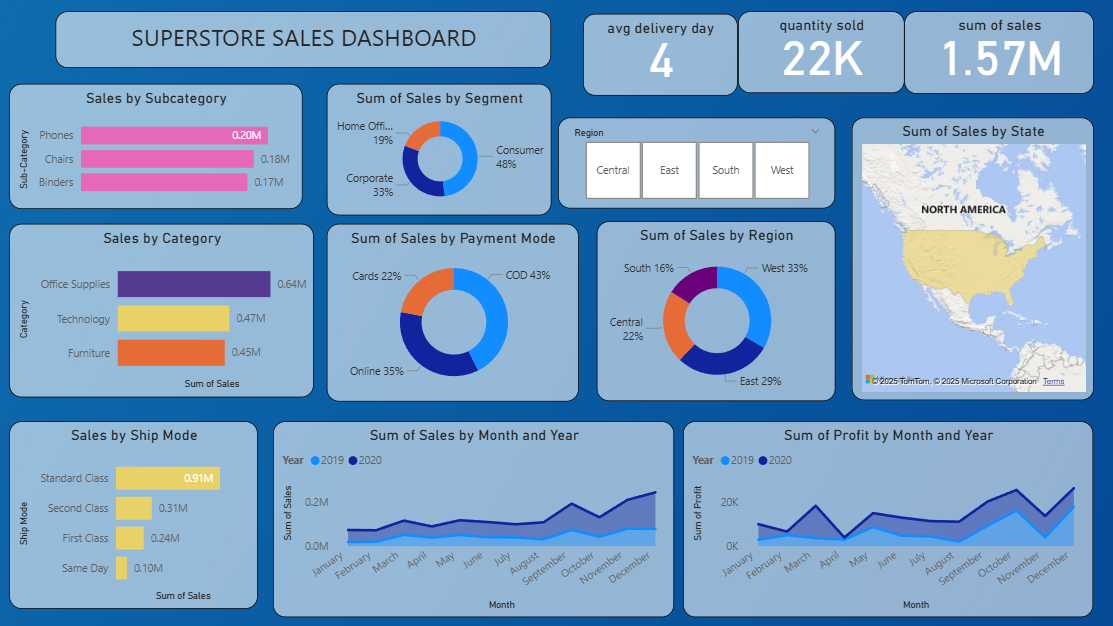

What the dashboard file says about the page in this screenshot:
{"tool":"powerbi","page":{"name":"Page 1","canvas":[1280,720],"ordinal":0},"visuals":[{"type":"clusteredBarChart","title":"Sales by Category","fields":{"Category":["SuperStore_Sales_Dataset (1).Category"],"Y":["Sum(SuperStore_Sales_Dataset (1).Sales)"]},"box":[13.3,255,348.3,198.3],"z":0},{"type":"clusteredBarChart","title":"Sales by Subcategory","fields":{"Category":["SuperStore_Sales_Dataset (1).Sub-Category"],"Y":["Sum(SuperStore_Sales_Dataset (1).Sales)"]},"box":[13.3,95,335,143.3],"z":1000},{"type":"clusteredBarChart","title":"Sales by Ship Mode","fields":{"Y":["Sum(SuperStore_Sales_Dataset (1).Sales)"],"Category":["SuperStore_Sales_Dataset (1).Ship Mode"]},"box":[12.9,481.4,284.3,214.3],"z":2000},{"type":"stackedAreaChart","fields":{"Category":["SuperStore_Sales_Dataset (1).Order Date.Variation.Date Hierarchy.Month","SuperStore_Sales_Dataset (1).Order Date.Variation.Date Hierarchy.Day"],"Series":["SuperStore_Sales_Dataset (1).Order Date.Variation.Date Hierarchy.Year"],"Y":["Sum(SuperStore_Sales_Dataset (1).Profit)"]},"box":[782.9,481.4,468.6,224.3],"z":3000},{"type":"stackedAreaChart","fields":{"Y":["Sum(SuperStore_Sales_Dataset (1).Sales)"],"Category":["SuperStore_Sales_Dataset (1).Order Date.Variation.Date Hierarchy.Month","SuperStore_Sales_Dataset (1).Order Date.Variation.Date Hierarchy.Day"],"Series":["SuperStore_Sales_Dataset (1).Order Date.Variation.Date Hierarchy.Year"]},"box":[314.3,481.4,458.6,224.3],"z":4000},{"type":"filledMap","fields":{"Category":["SuperStore_Sales_Dataset (1).State"]},"box":[975.7,134.3,277.1,322.9],"z":5000},{"type":"donutChart","fields":{"Y":["Sum(SuperStore_Sales_Dataset (1).Sales)"],"Category":["SuperStore_Sales_Dataset (1).Segment"]},"box":[375,95,256.7,150],"z":6000},{"type":"donutChart","fields":{"Y":["Sum(SuperStore_Sales_Dataset (1).Sales)"],"Category":["SuperStore_Sales_Dataset (1).Payment Mode"]},"box":[375,255,288.3,203.3],"z":7000},{"type":"donutChart","fields":{"Y":["Sum(SuperStore_Sales_Dataset (1).Sales)"],"Category":["SuperStore_Sales_Dataset (1).Region"]},"box":[684.3,252.9,272.9,205.7],"z":8000},{"type":"slicer","fields":{"Values":["SuperStore_Sales_Dataset (1).Region"]},"box":[640,134.3,317.1,104.3],"z":9000},{"type":"textbox","box":[65,13.3,566.7,65],"z":10000},{"type":"card","title":"sum of sales","fields":{"Values":["Sum(SuperStore_Sales_Dataset (1).Sales)"]},"box":[1035.7,12.9,217.1,94.3],"z":11000},{"type":"card","title":"quantity sold ","fields":{"Values":["Sum(SuperStore_Sales_Dataset (1).Quantity)"]},"box":[845,13.3,190,93.3],"z":12000},{"type":"card","title":"avg delivery day","fields":{"Values":["Avg(SuperStore_Sales_Dataset (1).AvgDelivery)"]},"box":[668.3,15,176.7,93.3],"z":13000}]}

Visuals, with their boxes in screenshot pixels (x1, y1, x2, y2), scaled from the page's 1280x720 canvas onto the 1113x626 screenshot:
"Sales by Category" clusteredBarChart: (12, 222, 314, 394)
"Sales by Subcategory" clusteredBarChart: (12, 83, 303, 207)
"Sales by Ship Mode" clusteredBarChart: (11, 419, 258, 605)
stackedAreaChart - SuperStore_Sales_Dataset (1).Order Date.Variation.Date Hierarchy.Month x SuperStore_Sales_Dataset (1).Order Date.Variation.Date Hierarchy.Day: (681, 419, 1088, 614)
stackedAreaChart - Sum(SuperStore_Sales_Dataset (1).Sales) x SuperStore_Sales_Dataset (1).Order Date.Variation.Date Hierarchy.Month: (273, 419, 672, 614)
filledMap - SuperStore_Sales_Dataset (1).State: (848, 117, 1089, 398)
donutChart - Sum(SuperStore_Sales_Dataset (1).Sales) x SuperStore_Sales_Dataset (1).Segment: (326, 83, 549, 213)
donutChart - Sum(SuperStore_Sales_Dataset (1).Sales) x SuperStore_Sales_Dataset (1).Payment Mode: (326, 222, 577, 398)
donutChart - Sum(SuperStore_Sales_Dataset (1).Sales) x SuperStore_Sales_Dataset (1).Region: (595, 220, 832, 399)
slicer - SuperStore_Sales_Dataset (1).Region: (556, 117, 832, 207)
textbox: (57, 12, 549, 68)
"sum of sales" card: (901, 11, 1089, 93)
"quantity sold " card: (735, 12, 900, 93)
"avg delivery day" card: (581, 13, 735, 94)
